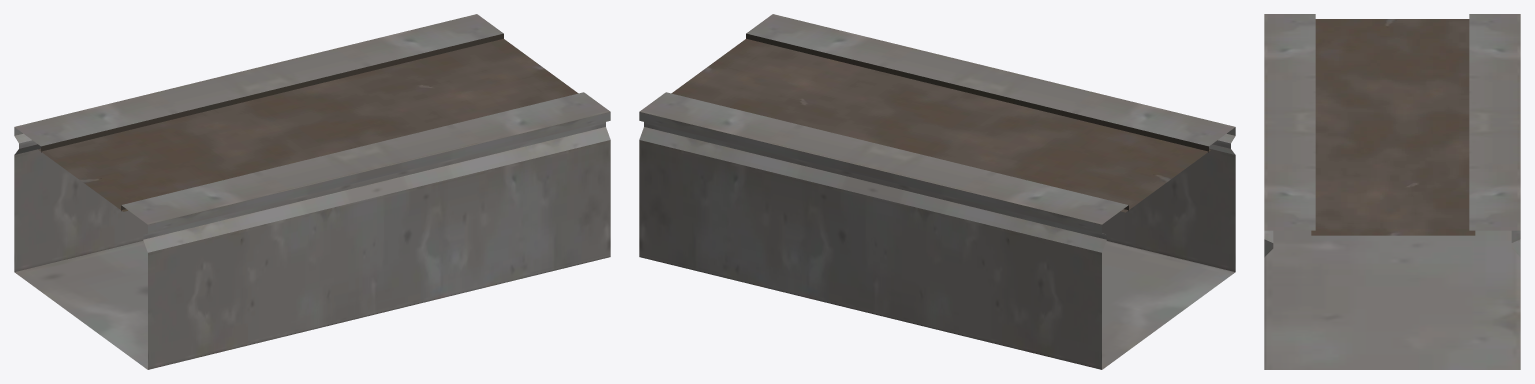
File: Prop_Planter_Small_Center.glb
3 renders of one model, left to right at view 1: azimuth 30°, elevation 25°; view 2: azimuth 150°, elevation 25°; view 3: azimuth 270°, elevation 25°, orthographic. The views are drawn at different scales.
Parts seen in each view (by area): view 1: Prop_Planter_Small_Center; view 2: Prop_Planter_Small_Center; view 3: Prop_Planter_Small_Center.
Boxes of the visible parts, x1=… form: Prop_Planter_Small_Center: x1=14, y1=14, x2=610, y2=369; Prop_Planter_Small_Center: x1=639, y1=14, x2=1235, y2=369; Prop_Planter_Small_Center: x1=1264, y1=14, x2=1520, y2=369.
Bounding box in the file's own units: 2 × 0.6 × 0.9997.
2 materials, 2 textured.
